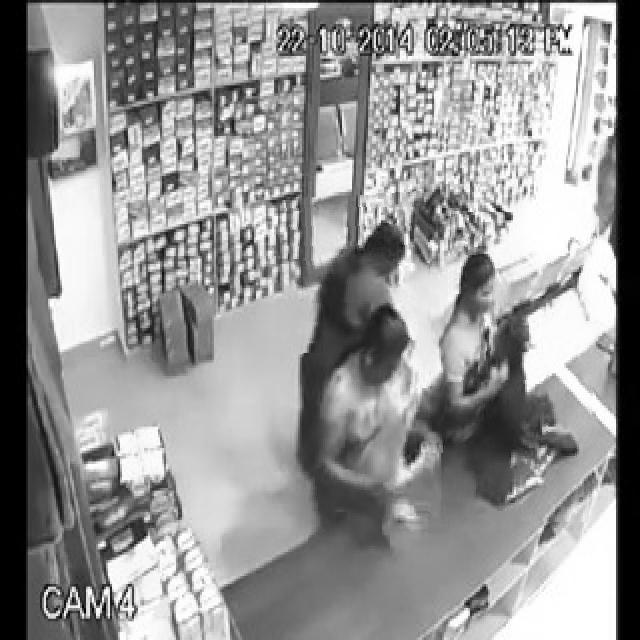normal: (444, 212, 596, 521), (309, 291, 449, 585), (287, 193, 430, 353)
